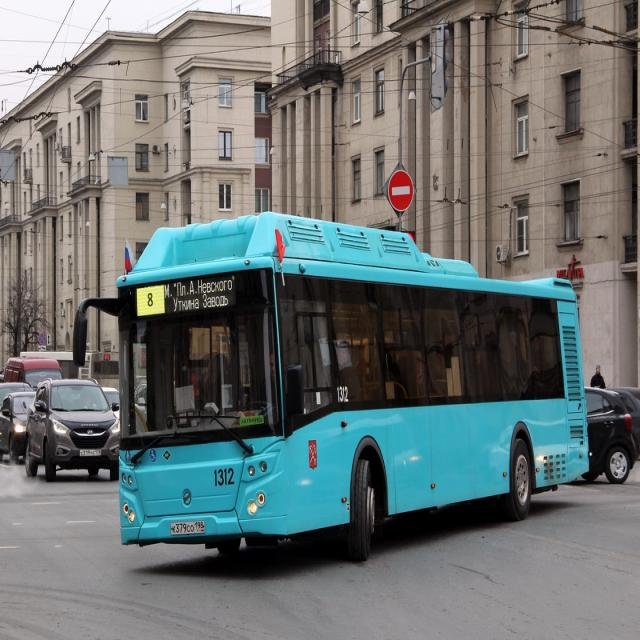number-of-bus: (144, 291, 159, 309)
